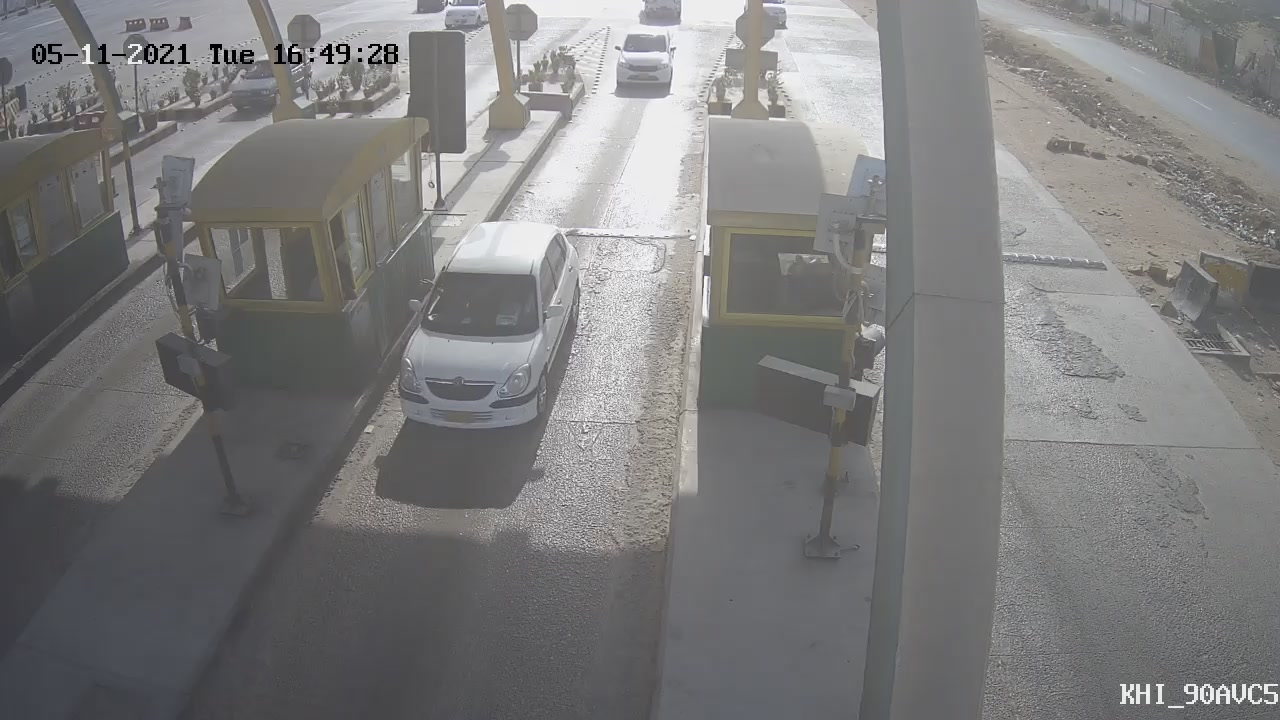F1: (372, 204, 599, 452)
